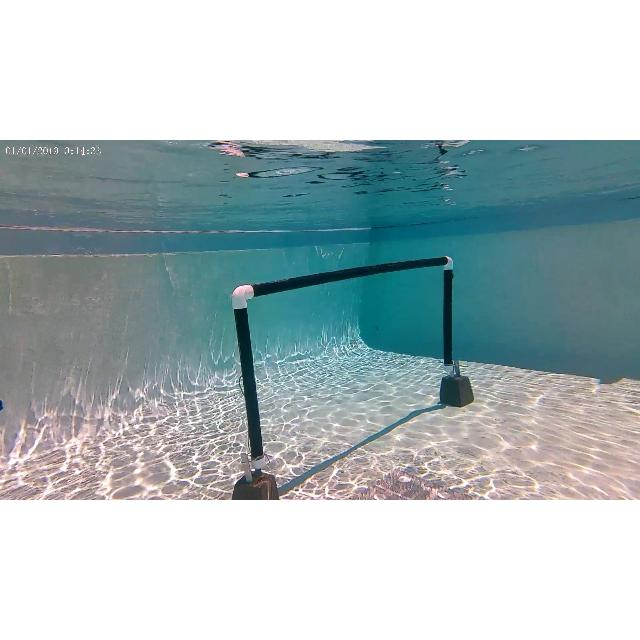prequal gate: (232, 256, 454, 468)
prequal gate leg l: (228, 286, 280, 500)
prequal gate leg r: (436, 250, 474, 410)
